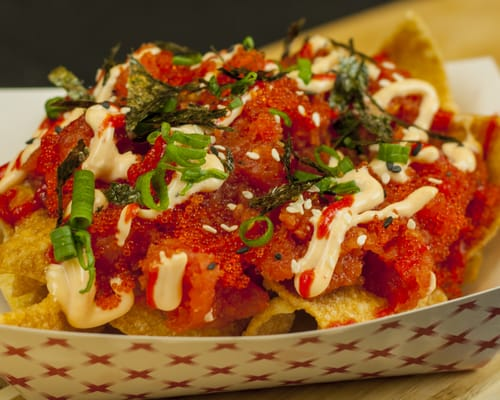sandwich: (1, 22, 499, 339)
